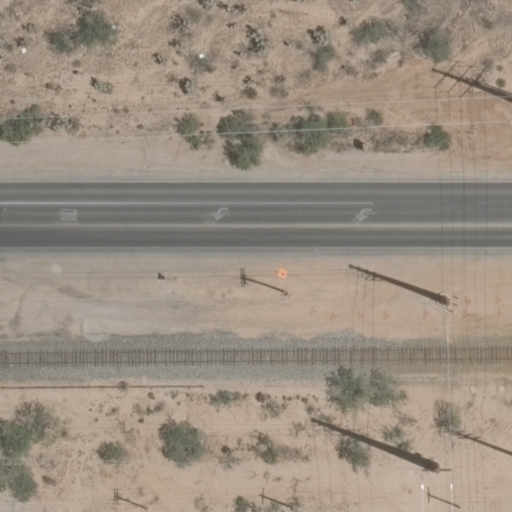DT: (309, 413, 440, 472), (346, 261, 449, 306), (429, 61, 512, 104), (258, 490, 296, 511), (111, 492, 146, 512), (420, 490, 462, 505)
